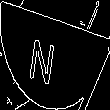N_N: (40, 25, 70, 85)
